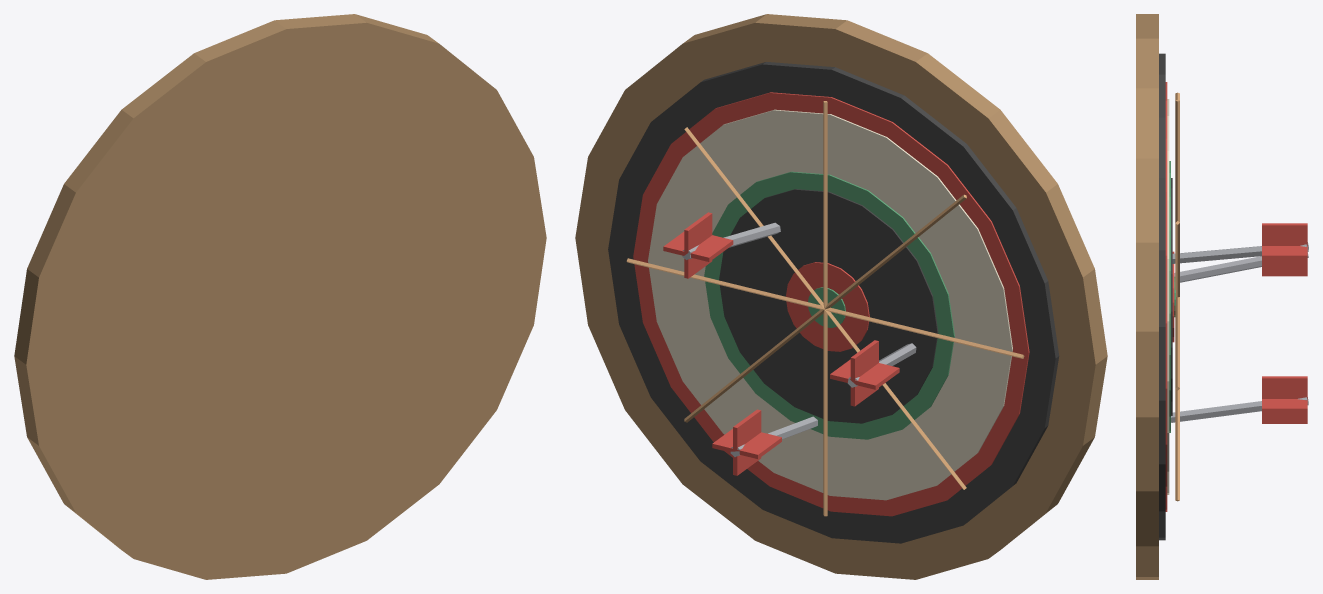
Rendered from dartboard_wall.glb.
3 views of the same model, side by side, from view 1: azimuth 30°, elevation 25°; view 2: azimuth 150°, elevation 25°; view 3: azimuth 270°, elevation 25° (orthographic). The views are drawn at different scales.
Visible parts, largest first — view 1: DartboardWall; view 2: DartboardWall; view 3: DartboardWall.
Boxes of the visible parts, <box> form: DartboardWall: <box>14,14,546,579</box>; DartboardWall: <box>575,14,1107,579</box>; DartboardWall: <box>1136,14,1308,579</box>.
Size of the model in its own units: 0.5 by 0.5 by 0.1515.
